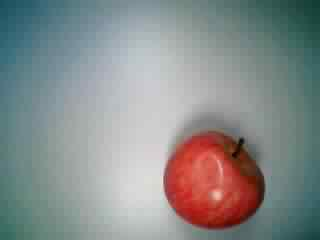apple: (162, 126, 266, 230)
